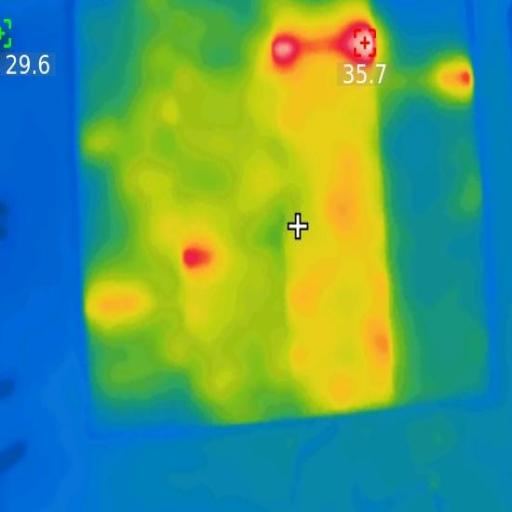hotspot: (330, 18, 382, 68), (272, 32, 308, 69), (180, 242, 214, 274), (462, 67, 474, 94)
